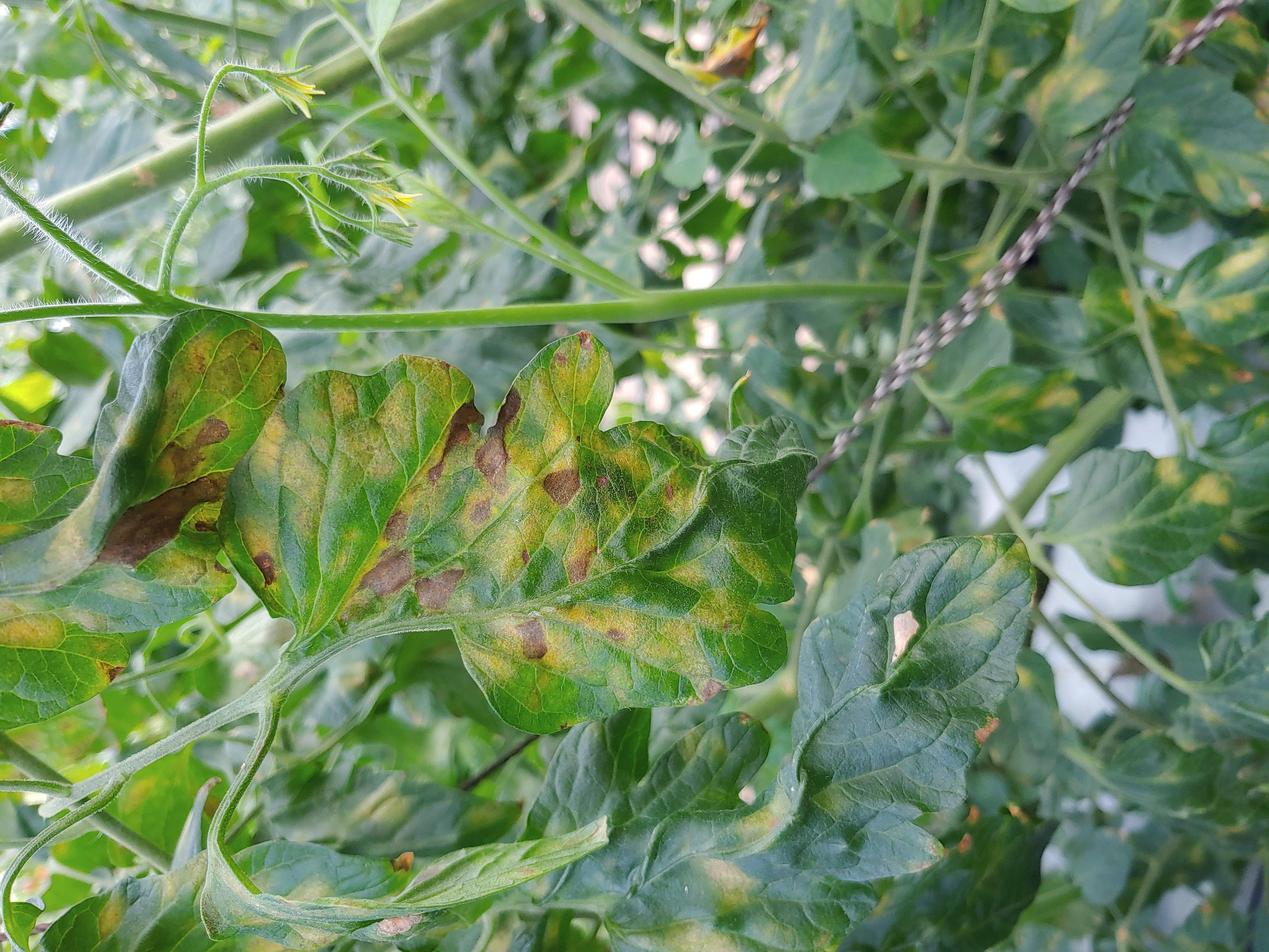Leaf Mold: (215, 330, 819, 737), (512, 535, 1039, 952), (0, 309, 288, 735), (201, 812, 611, 952), (39, 836, 415, 952), (1043, 445, 1237, 589), (1109, 63, 1269, 219), (1025, 0, 1147, 136), (949, 363, 1081, 455), (1172, 233, 1269, 353)
